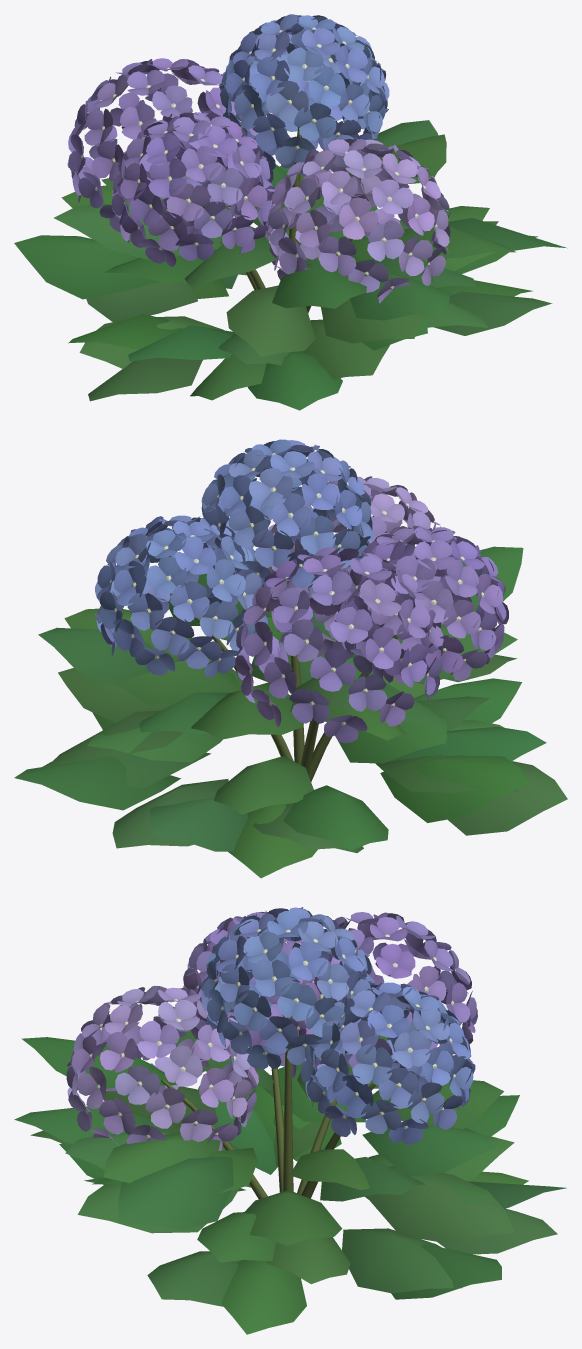
File: hydrangea.glb
The picture shows the model from 3 angles, top to bottom: view 1: azimuth 30°, elevation 25°; view 2: azimuth 150°, elevation 25°; view 3: azimuth 270°, elevation 25°; orthographic projection. The views are drawn at different scales.
Visible parts, largest first — view 1: floret, leaf, center, stem; view 2: floret, leaf, stem, center; view 3: leaf, floret, stem, center.
Part boxes in pixels (x1,y1,x2,y2): floret: [67, 14, 450, 303]; leaf: [14, 120, 567, 410]; center: [81, 27, 437, 289]; stem: [202, 126, 352, 313]; floret: [94, 439, 508, 743]; leaf: [14, 546, 567, 878]; stem: [194, 549, 397, 781]; center: [109, 453, 484, 725]; leaf: [14, 1031, 566, 1334]; floret: [66, 907, 477, 1150]; stem: [161, 1017, 376, 1199]; center: [85, 929, 455, 1139].
Bounding box in the file's own units: 1.23 × 0.8565 × 1.27.
